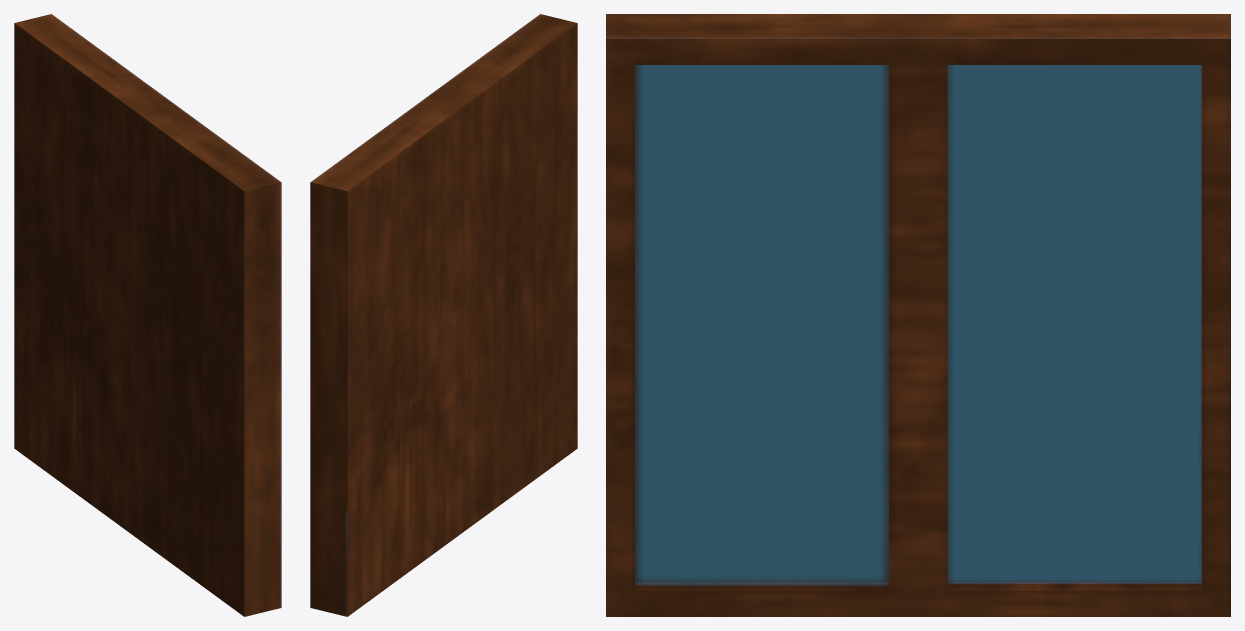
Rendered from window.fbx.
3 renders of one model, left to right at view 1: azimuth 30°, elevation 25°; view 2: azimuth 150°, elevation 25°; view 3: azimuth 270°, elevation 25°, orthographic. The views are drawn at different scales.
Visible parts, largest first — view 1: window; view 2: window; view 3: window.
Boxes of the visible parts, bbox=[...] form: window: bbox=[14, 14, 281, 616]; window: bbox=[310, 14, 577, 616]; window: bbox=[606, 14, 1230, 616].
Size of the model in its own units: 30 by 329 by 322.
